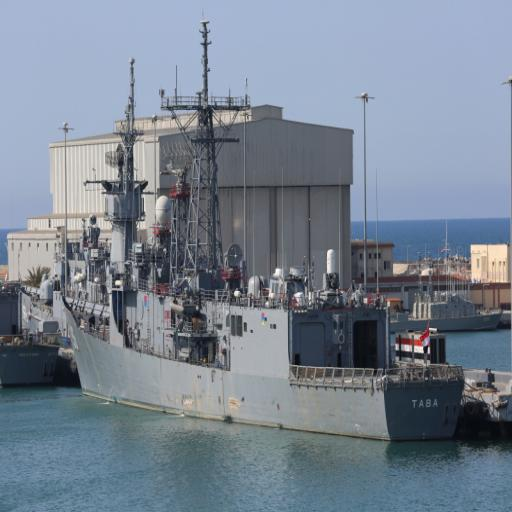Fragata: (52, 13, 468, 446)
